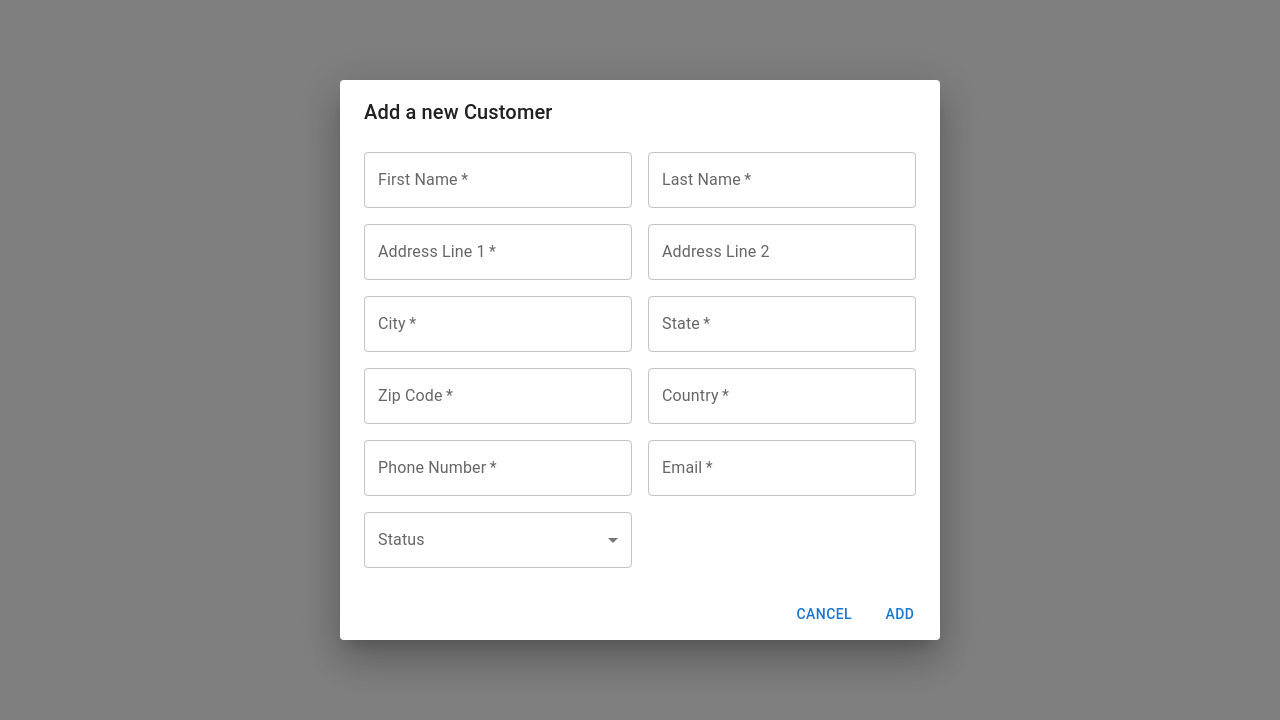
Test: CustomerModal Component › displays error message for required fields if they are empty
Click the button with test id "add" at (900, 614), box [868,596,932,632]
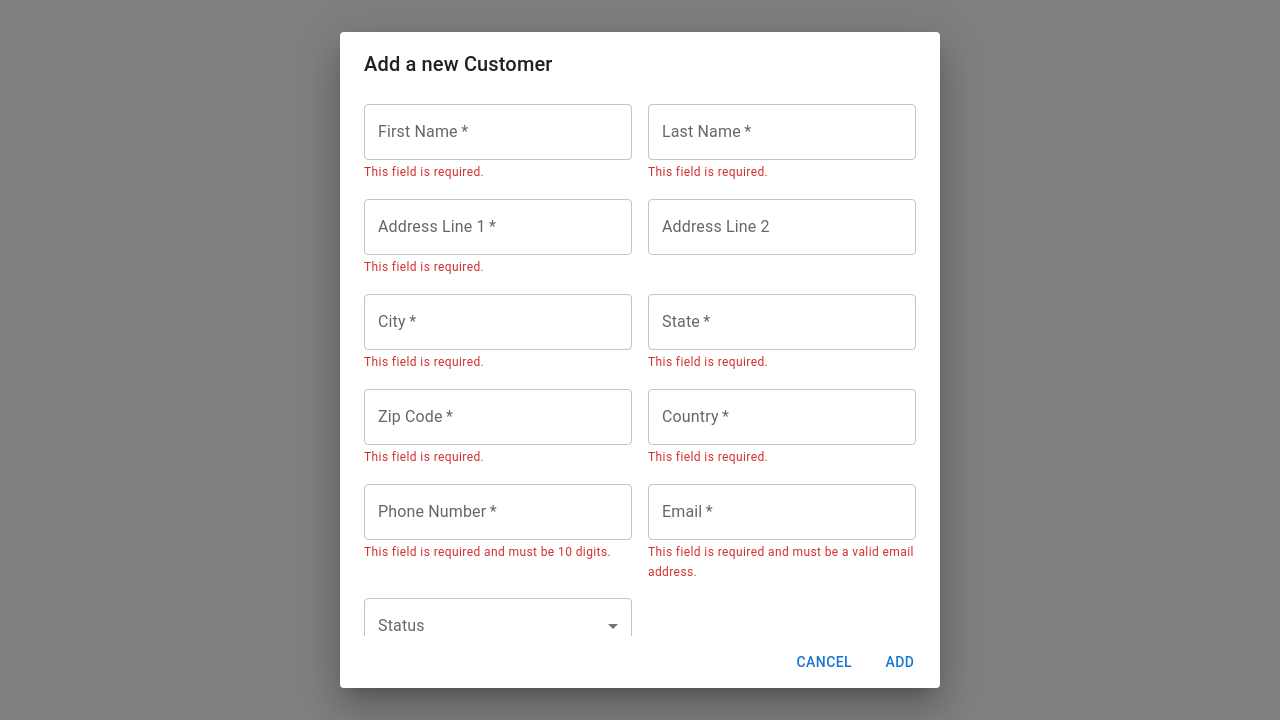
Check: the text "This field is required." is shown 8 times
